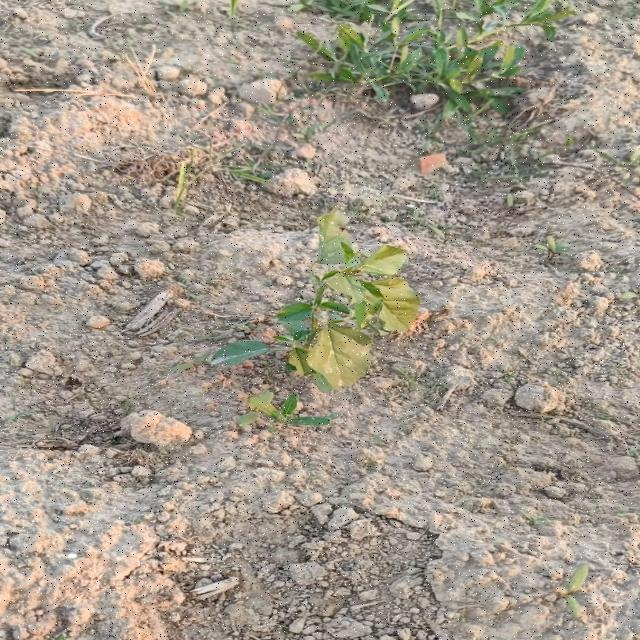weed: (209, 208, 420, 392), (238, 392, 339, 427)
